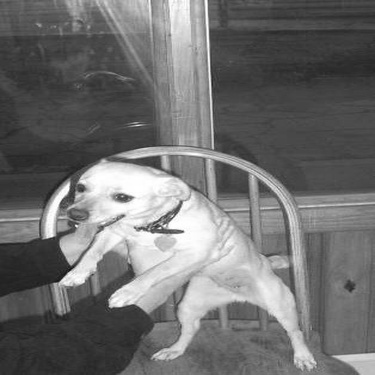dog: (47, 143, 322, 371)
